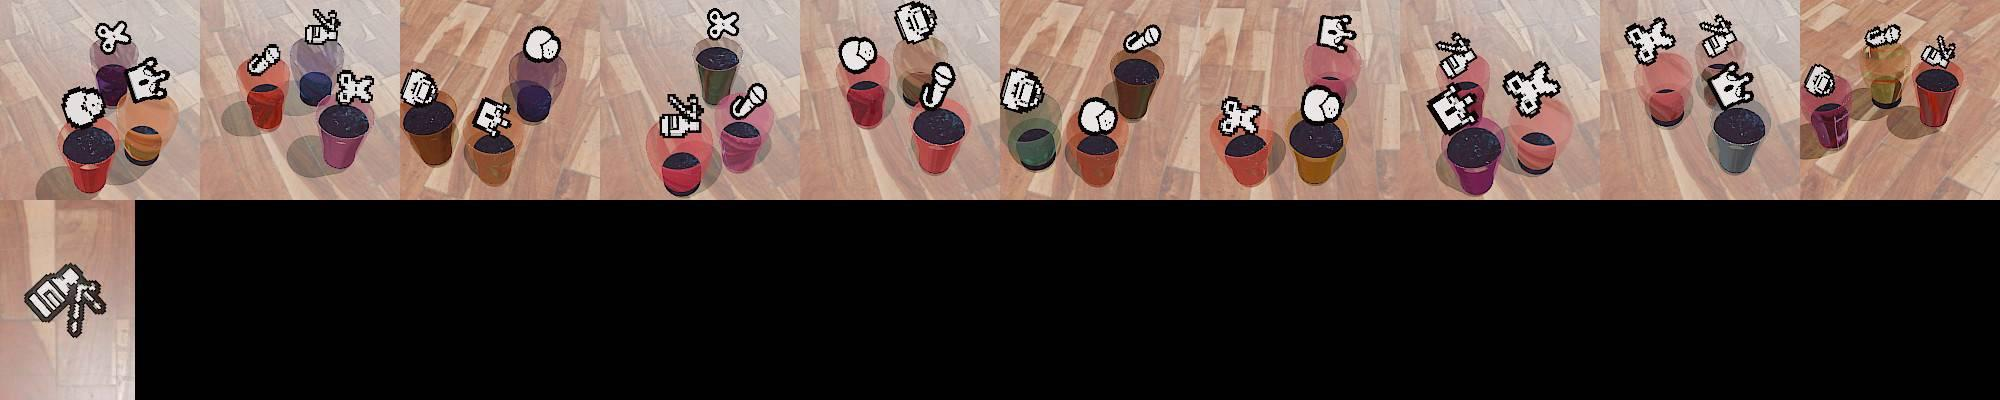icon: (24, 262, 110, 339), (1501, 61, 1561, 118), (1426, 83, 1480, 136), (1624, 17, 1677, 65), (658, 89, 705, 138), (125, 56, 172, 103), (1708, 65, 1756, 111), (1434, 32, 1480, 80), (999, 66, 1045, 113), (60, 85, 107, 129), (894, 1, 939, 43), (1217, 94, 1261, 136), (920, 61, 957, 111), (1699, 14, 1739, 60), (1300, 84, 1343, 124), (522, 25, 564, 64), (1077, 97, 1119, 135), (838, 34, 878, 74), (1316, 14, 1356, 54), (472, 97, 513, 135), (334, 69, 376, 106), (731, 82, 769, 120), (401, 68, 437, 107), (307, 8, 342, 47), (94, 20, 131, 56), (1920, 34, 1958, 69), (1802, 62, 1837, 97), (705, 8, 741, 41), (245, 43, 281, 76), (1124, 23, 1162, 54), (1865, 22, 1902, 48)
